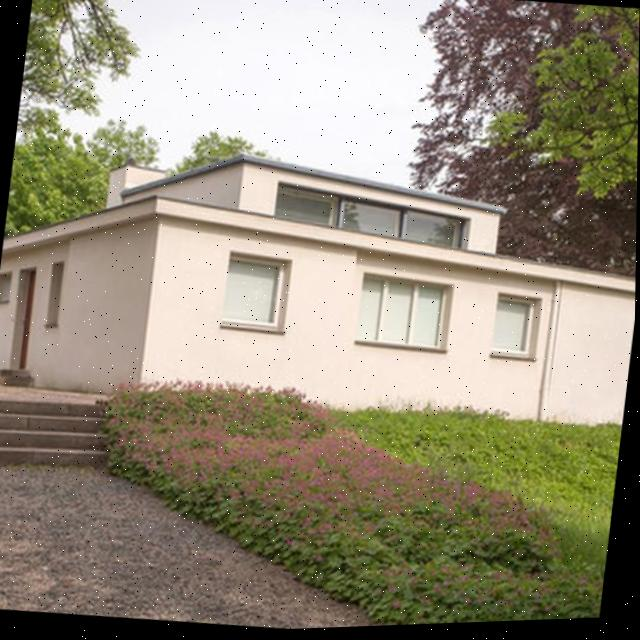building: (0, 115, 638, 453)
